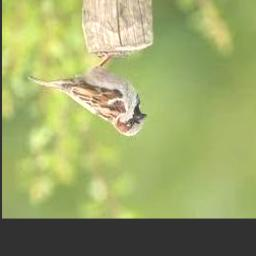Sparrow: (28, 53, 147, 136)
